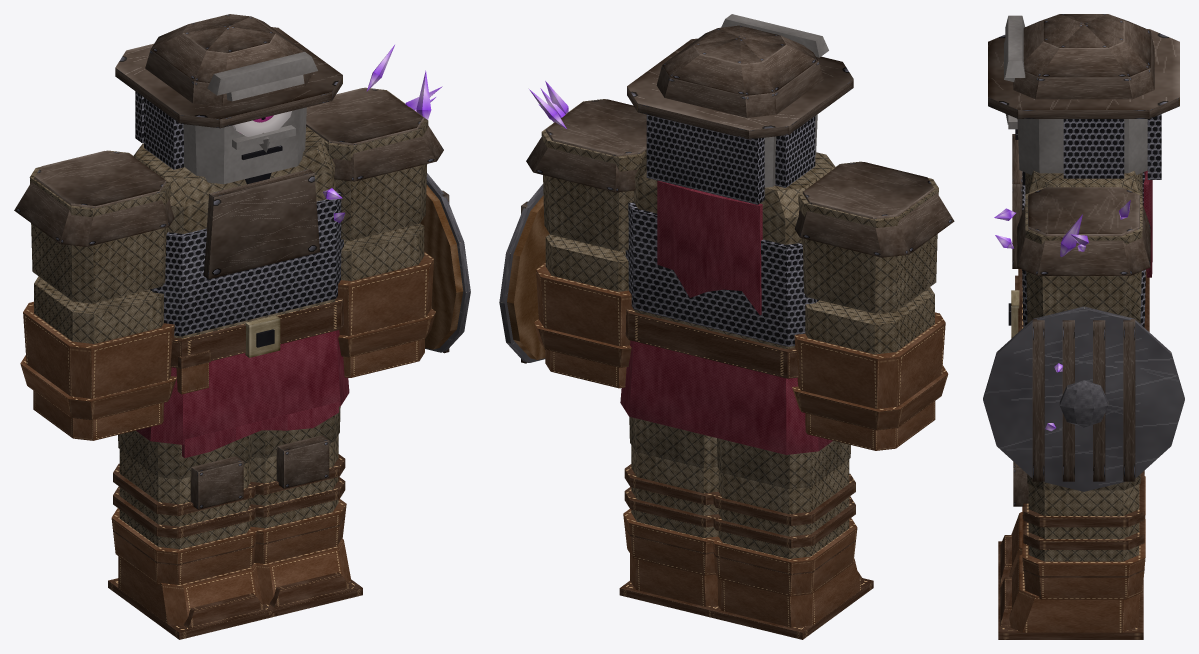
File: KnightApprentice.fbx
3 views of the same model, side by side, from view 1: azimuth 30°, elevation 25°; view 2: azimuth 150°, elevation 25°; view 3: azimuth 270°, elevation 25° (orthographic). The views are drawn at different scales.
Parts seen in each view (by area): view 1: Head_Armor, UpperTorso_Armor, LowerTorso_Armor, RightUpperArm_Armor, RightLowerLeg_Armor, LeftUpperArm_Armor, RightLowerArm_Armor, LeftLowerLeg_Armor, LeftLowerArm_Armor, RightFoot_Armor, RightHand_Armor, LeftLowerArm_Shield (+5 smaller); view 2: Head_Armor, UpperTorso_Armor, LowerTorso_Armor, RightUpperArm_Armor, RightLowerLeg_Armor, RightLowerArm_Armor, LeftUpperArm_Armor, LeftLowerLeg_Armor, LeftLowerArm_Armor, RightFoot_Armor, RightHand_Armor, LeftLowerArm_Shield (+5 smaller); view 3: LeftLowerArm_Shield, Head_Armor, LeftUpperArm_Armor, LeftLowerLeg_Armor, LeftFoot_Armor, UpperTorso_Armor, RightFoot_Armor, LowerTorso_Armor, LeftUpperArm_Glow, LeftUpperLeg_Armor, UpperTorso_Glow.
Part boxes in pixels (x1,y1,x2,y2): Head_Armor: [115, 14, 342, 184]; UpperTorso_Armor: [133, 126, 343, 336]; LowerTorso_Armor: [136, 298, 349, 458]; RightUpperArm_Armor: [14, 150, 174, 303]; RightLowerLeg_Armor: [111, 449, 256, 584]; LeftUpperArm_Armor: [306, 87, 443, 240]; RightLowerArm_Armor: [23, 276, 174, 398]; LeftLowerLeg_Armor: [249, 435, 346, 563]; LeftLowerArm_Armor: [337, 223, 433, 335]; RightFoot_Armor: [108, 556, 277, 639]; RightHand_Armor: [20, 355, 176, 440]; LeftLowerArm_Shield: [420, 173, 470, 353]; Head_Armor: [627, 14, 853, 204]; UpperTorso_Armor: [625, 150, 835, 346]; LowerTorso_Armor: [620, 308, 832, 454]; RightUpperArm_Armor: [795, 161, 954, 313]; RightLowerLeg_Armor: [710, 459, 857, 596]; RightLowerArm_Armor: [794, 287, 945, 408]; LeftUpperArm_Armor: [526, 99, 646, 251]; LeftLowerLeg_Armor: [623, 445, 720, 575]; LeftLowerArm_Armor: [536, 234, 632, 346]; RightFoot_Armor: [705, 558, 873, 639]; RightHand_Armor: [792, 365, 948, 450]; LeftLowerArm_Shield: [499, 184, 549, 363]; LeftLowerArm_Shield: [983, 306, 1184, 491]; Head_Armor: [988, 14, 1179, 179]; LeftUpperArm_Armor: [1017, 187, 1150, 323]; LeftLowerLeg_Armor: [1013, 461, 1145, 599]; LeftFoot_Armor: [998, 554, 1143, 639]; UpperTorso_Armor: [1012, 134, 1152, 327]; RightFoot_Armor: [998, 512, 1143, 583]; LowerTorso_Armor: [1008, 269, 1149, 338]; LeftUpperArm_Glow: [1060, 200, 1130, 256]; LeftUpperLeg_Armor: [1027, 474, 1140, 490]; UpperTorso_Glow: [994, 208, 1015, 248].
Bounding box in the file's own units: 467 × 624 × 200.
2 materials, 2 textured.
